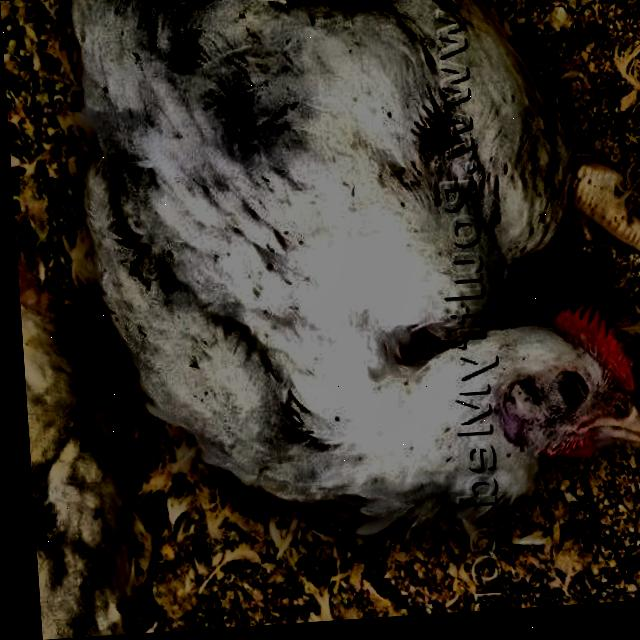Newcastle: (67, 0, 640, 551)
